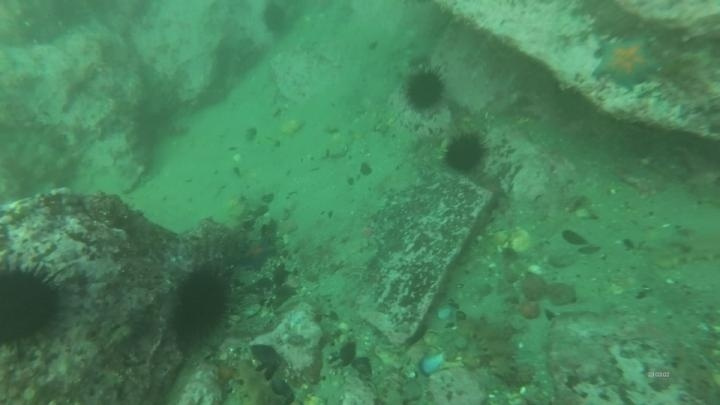echinus: (1, 258, 66, 350), (168, 261, 237, 344), (402, 66, 448, 113), (441, 130, 488, 175), (259, 3, 294, 39)
holothurian: (459, 313, 522, 384), (225, 356, 286, 404), (647, 233, 720, 272)
starfish: (591, 33, 662, 91), (234, 233, 278, 272)
